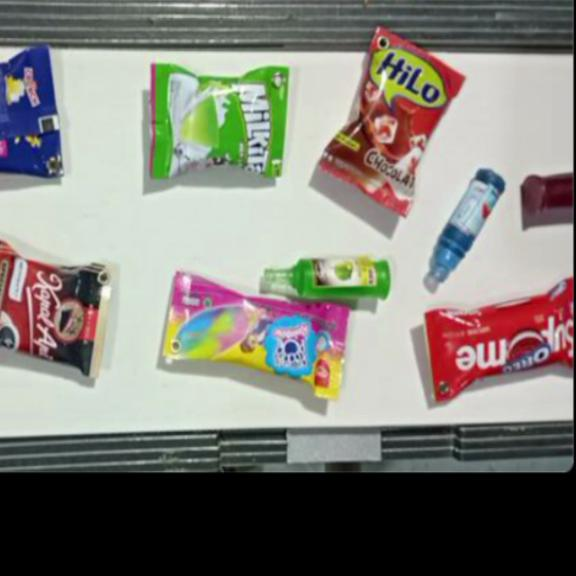Plastik: (319, 26, 466, 217), (162, 270, 350, 399), (424, 278, 574, 402), (149, 64, 290, 178), (0, 240, 111, 377), (428, 167, 506, 285), (0, 47, 64, 177), (264, 255, 392, 302), (522, 171, 574, 211)
